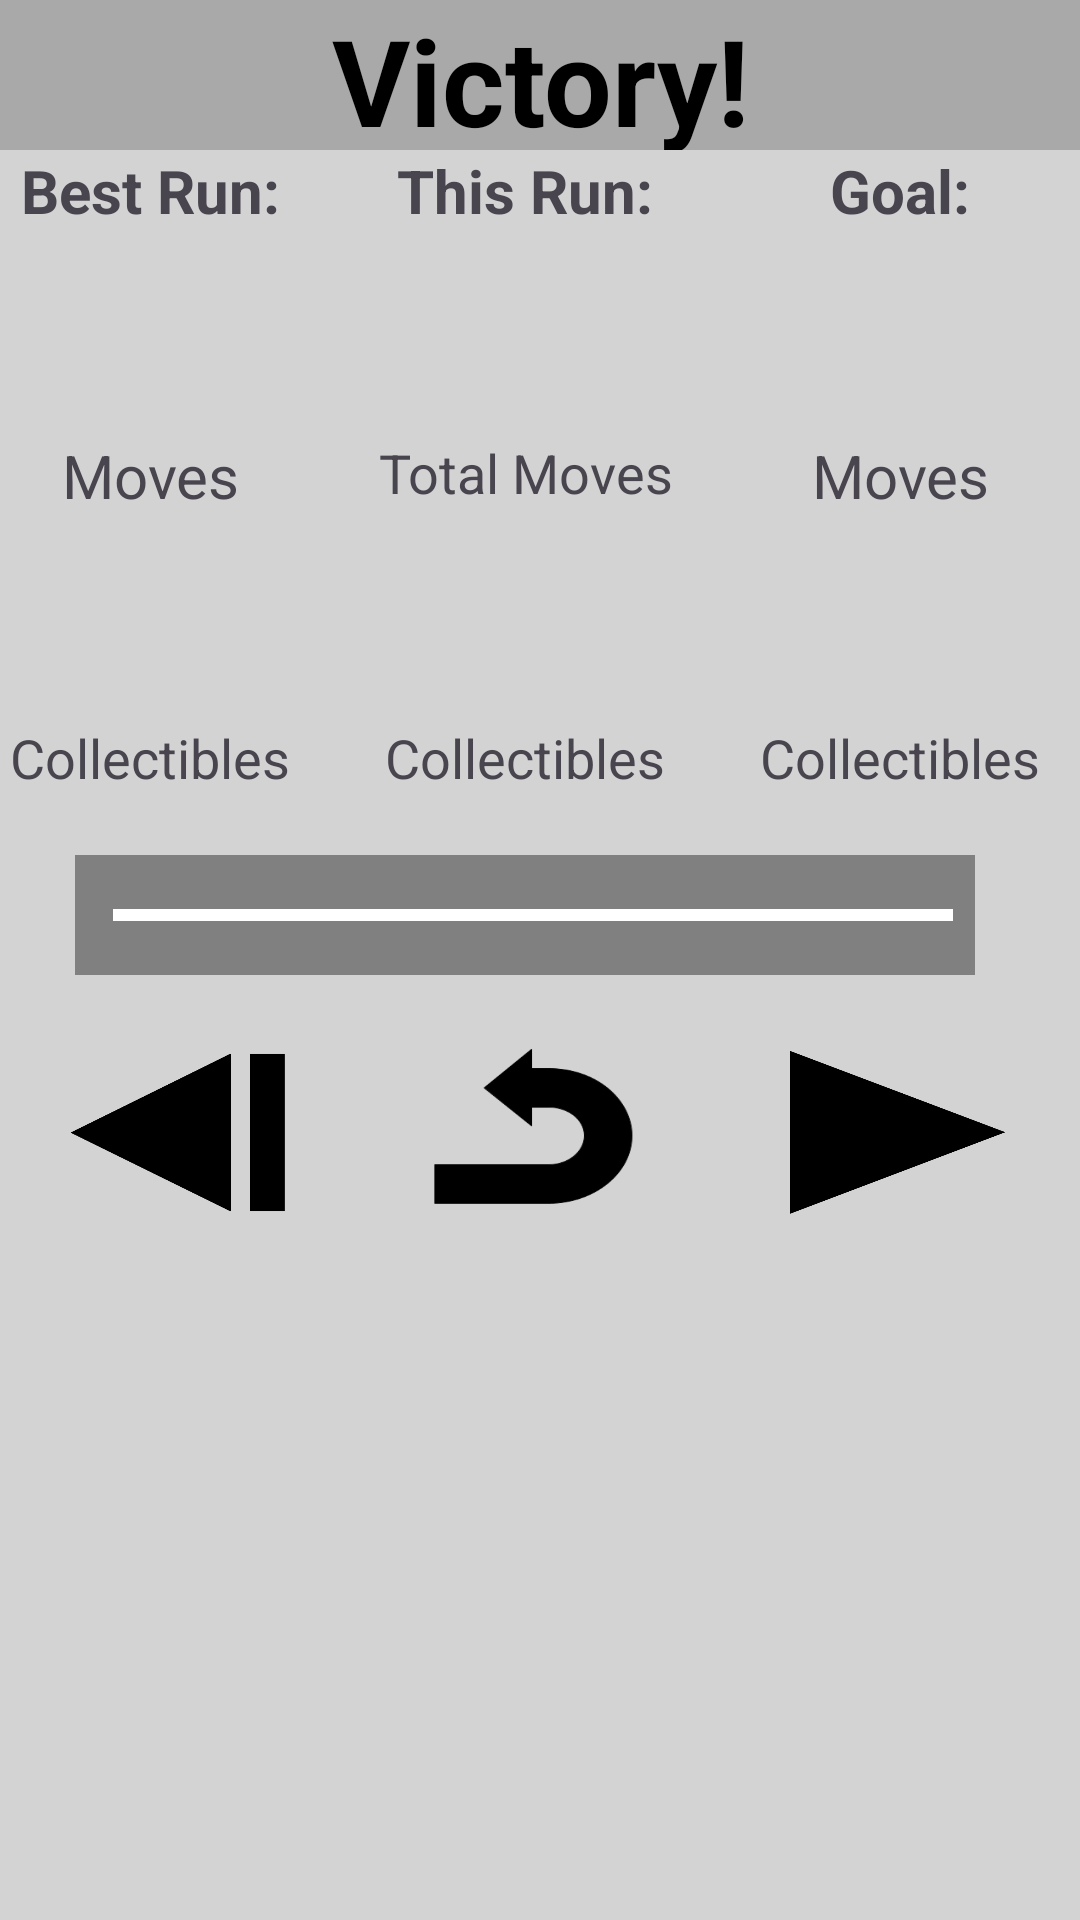

Icon bounding boxes for this 1080px x 1920px phone screenshot, format (x1, y1, x2, y2):
last level button: (71, 1054, 285, 1211)
next level button: (790, 1051, 1005, 1214)
retry level button: (434, 1049, 633, 1204)
